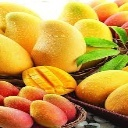mango: (34, 19, 87, 74)
